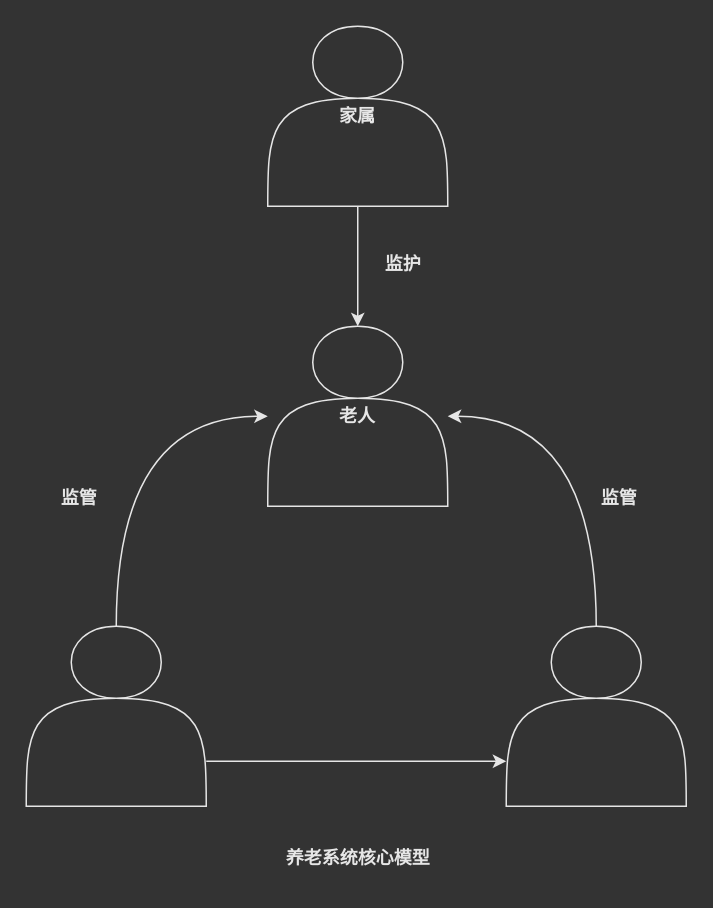
This 713x908 diagram has some shape labels left out. Here are the shapes that lost their labels. From the top down, the box of each, then its label:
(25, 625, 206, 806): 监管部门
(505, 625, 686, 806): 养老机构
